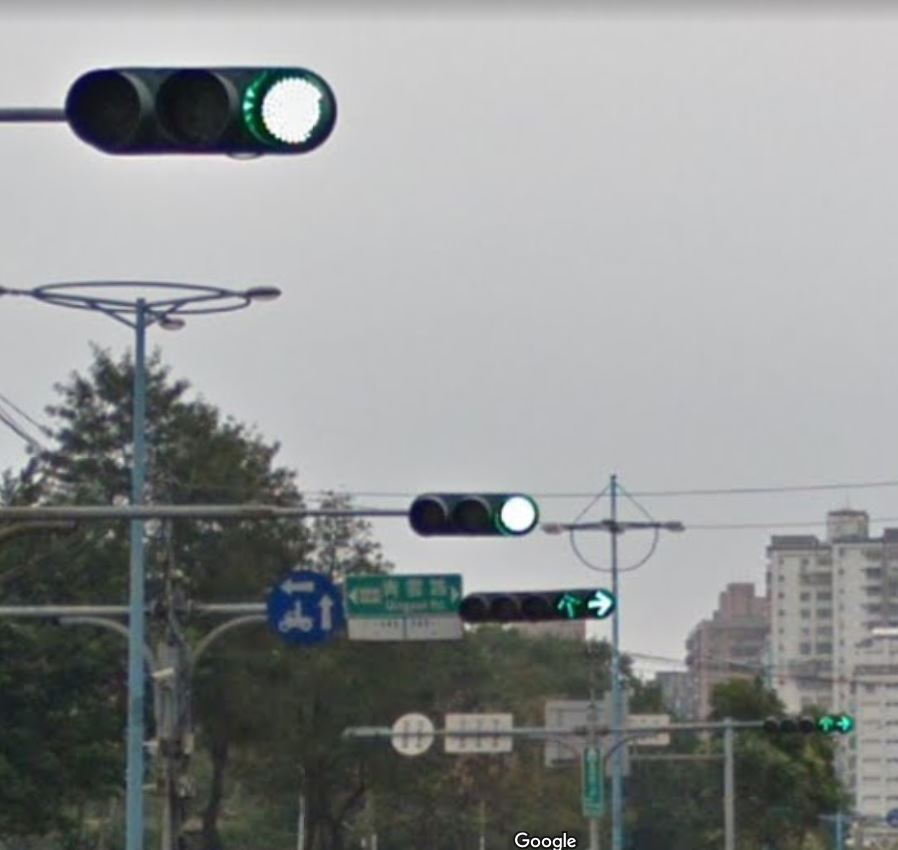Traffic_light_green: (64, 59, 340, 159), (407, 494, 539, 542)
